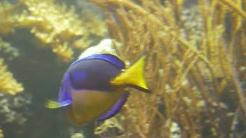Acanthuridae -Surgeonfishes-: (44, 49, 150, 128)
